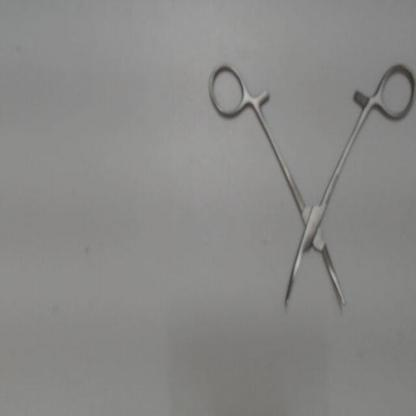Crile Artery Forceps: (197, 47, 416, 319)
